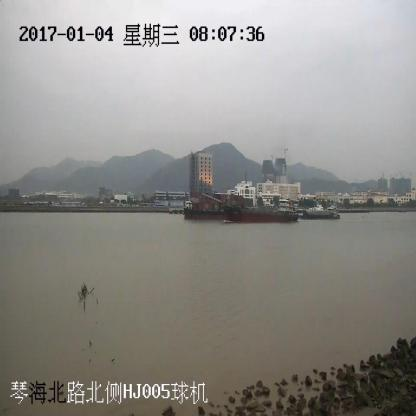Bulk Carrier: (202, 193, 296, 220), (301, 209, 339, 220)
